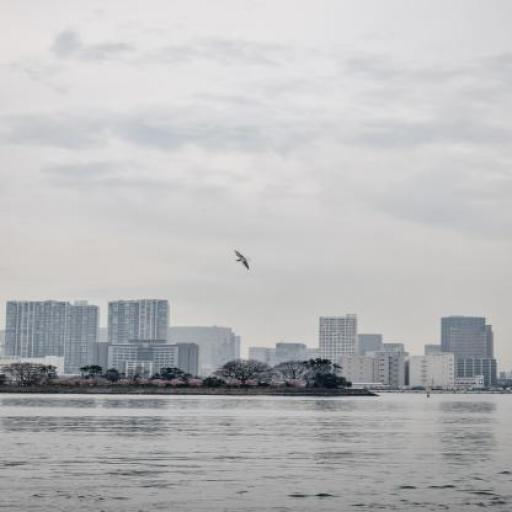bird: (233, 251, 252, 271)
